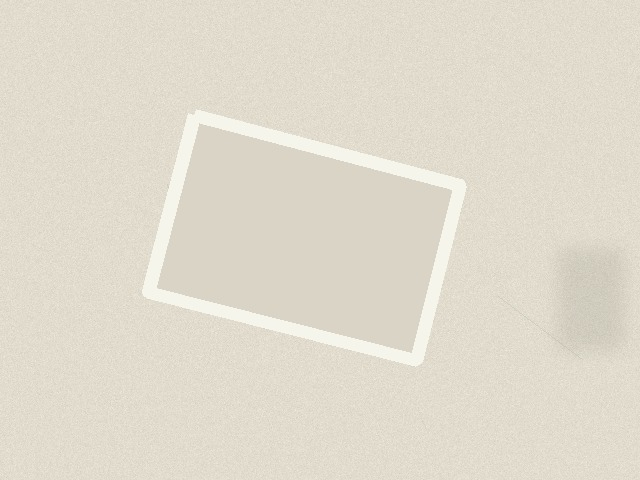parking_area: (148, 115, 460, 360)
